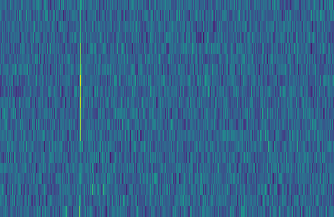signal: (73, 0, 83, 217)
